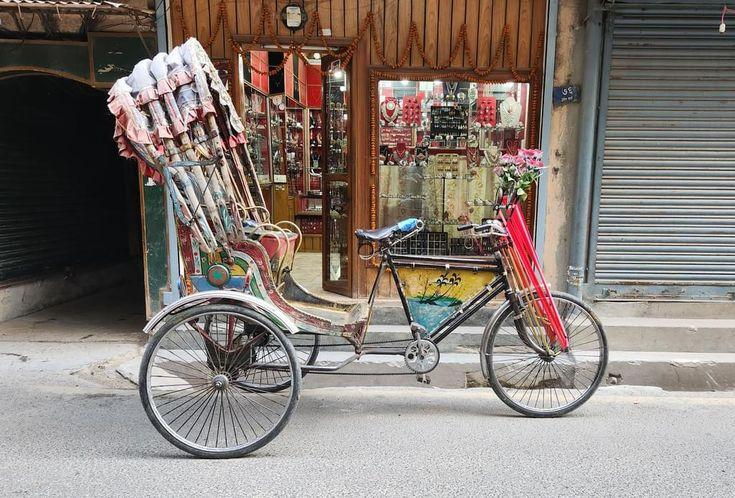Rickshaw: (109, 38, 608, 455)
